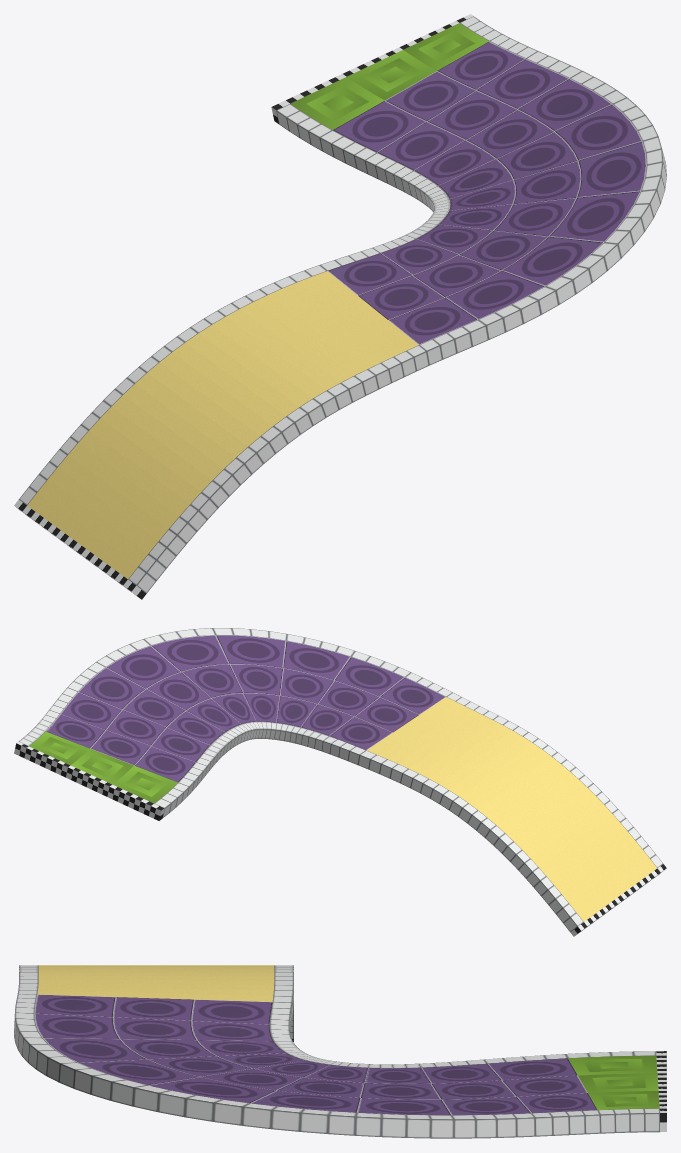
File: NonLinearNewCurve2.obj
3 renders of one model, top to bottom at view 1: azimuth 30°, elevation 25°; view 2: azimuth 150°, elevation 25°; view 3: azimuth 270°, elevation 25°, orthographic. The views are drawn at different scales.
Visible parts, largest first — view 1: Cube.003; view 2: Cube.003; view 3: Cube.003.
Boxes of the visible parts, <box> form: Cube.003: <box>14,14,666,599</box>; Cube.003: <box>14,628,666,936</box>; Cube.003: <box>14,965,666,1138</box>.
Size of the model in its own units: 22.12 by 8.02 by 16.63.
